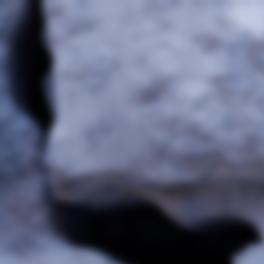brick: (44, 0, 263, 193)
broken_brick: (236, 245, 263, 263)
crack: (0, 0, 263, 263)
